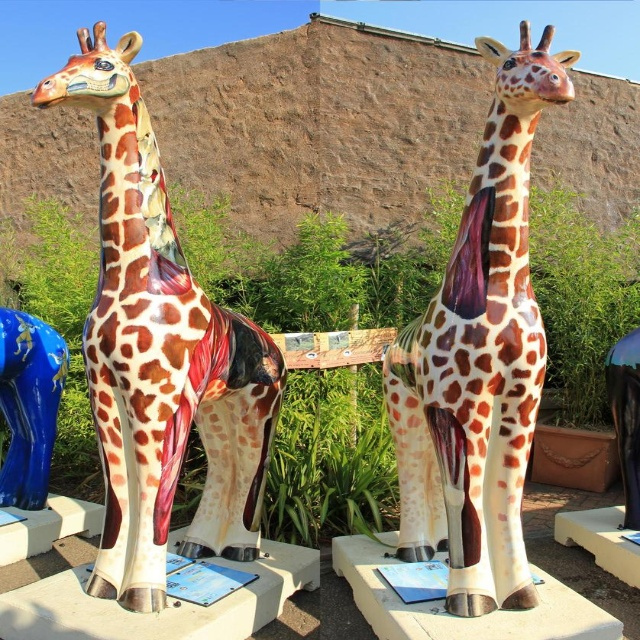Giraffe: (28, 23, 291, 616), (381, 19, 584, 622)
